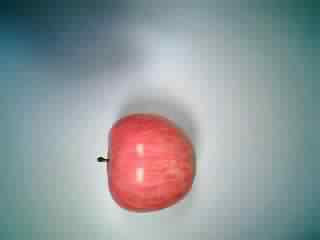apple: (95, 108, 201, 212)
